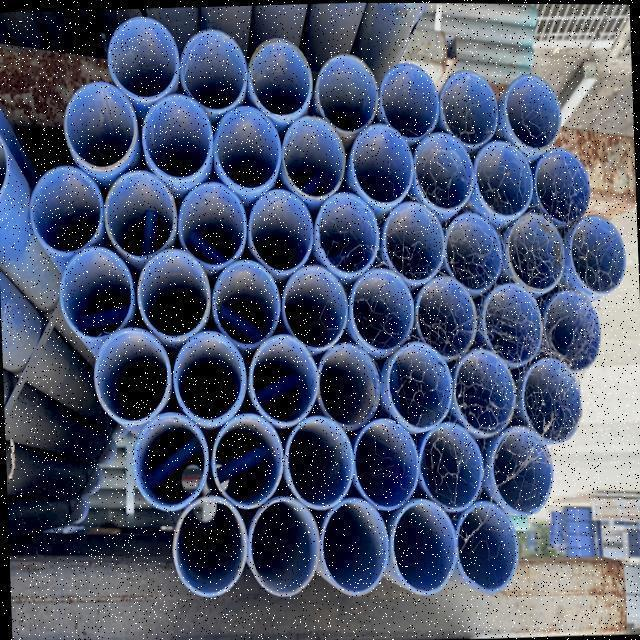pipe: (241, 496, 324, 598), (168, 492, 249, 596), (128, 409, 208, 511), (93, 325, 174, 425), (52, 246, 137, 341), (318, 494, 393, 595), (446, 496, 525, 590), (135, 247, 212, 340), (389, 489, 459, 591), (285, 412, 356, 512), (30, 163, 105, 256), (177, 179, 257, 266), (349, 416, 421, 512), (172, 332, 247, 424), (214, 413, 285, 510), (382, 339, 456, 430), (106, 169, 180, 259), (251, 334, 322, 427), (142, 91, 214, 181), (407, 268, 476, 361), (490, 422, 557, 516), (107, 14, 180, 100), (212, 258, 284, 345), (63, 85, 135, 172), (310, 189, 381, 275), (281, 261, 350, 349), (317, 340, 384, 430), (347, 267, 418, 351), (453, 344, 519, 434), (249, 185, 315, 274), (420, 420, 486, 508), (216, 107, 285, 191), (520, 351, 584, 441), (180, 26, 250, 107), (352, 116, 417, 203), (280, 113, 346, 198), (248, 36, 315, 117), (412, 126, 475, 211), (315, 53, 382, 132), (505, 209, 567, 293), (483, 282, 544, 367), (382, 202, 445, 284), (445, 211, 506, 293), (473, 136, 534, 218), (381, 60, 442, 142), (438, 64, 500, 144), (571, 208, 628, 295), (543, 286, 602, 369), (535, 142, 592, 225), (505, 72, 564, 150)
